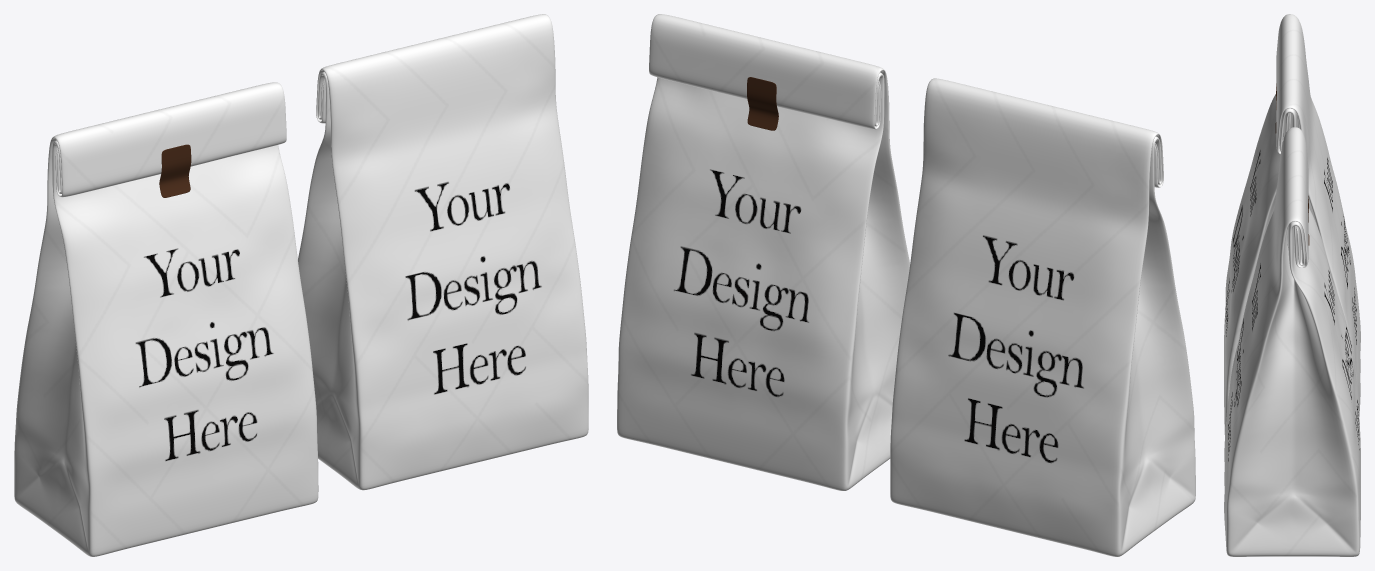
Rendered from Kraft paper A-1.glb.
3 views of the same model, side by side, from view 1: azimuth 30°, elevation 25°; view 2: azimuth 150°, elevation 25°; view 3: azimuth 270°, elevation 25° (orthographic). The views are drawn at different scales.
Parts seen in each view (by area): view 1: _gltfNode_0.001, _gltfNode_0, _gltfNode_1.001; view 2: _gltfNode_0.001, _gltfNode_0, _gltfNode_1; view 3: _gltfNode_0, _gltfNode_0.001.
Boxes of the visible parts, x1=… form: _gltfNode_0.001: x1=14, y1=82, x2=318, y2=556; _gltfNode_0: x1=298, y1=14, x2=588, y2=490; _gltfNode_1.001: x1=159, y1=144, x2=191, y2=197; _gltfNode_0.001: x1=890, y1=78, x2=1195, y2=556; _gltfNode_0: x1=617, y1=14, x2=910, y2=490; _gltfNode_1: x1=747, y1=77, x2=778, y2=130; _gltfNode_0: x1=1224, y1=127, x2=1360, y2=556; _gltfNode_0.001: x1=1224, y1=14, x2=1360, y2=435.
Size of the model in its own units: 28.09 by 21.2 by 7.78.
Materials: 2 (1 with a texture image).
